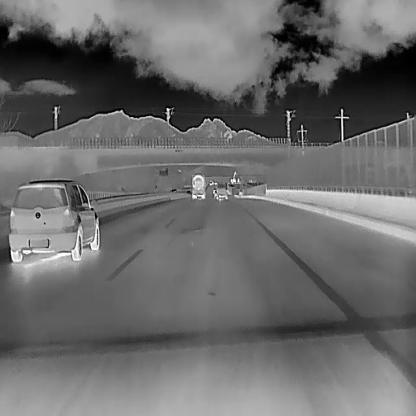car: (8, 178, 99, 261), (216, 182, 227, 200), (212, 190, 218, 198), (211, 187, 217, 192), (170, 188, 176, 193), (208, 180, 213, 185), (186, 189, 190, 195)
truck: (190, 172, 206, 199)
